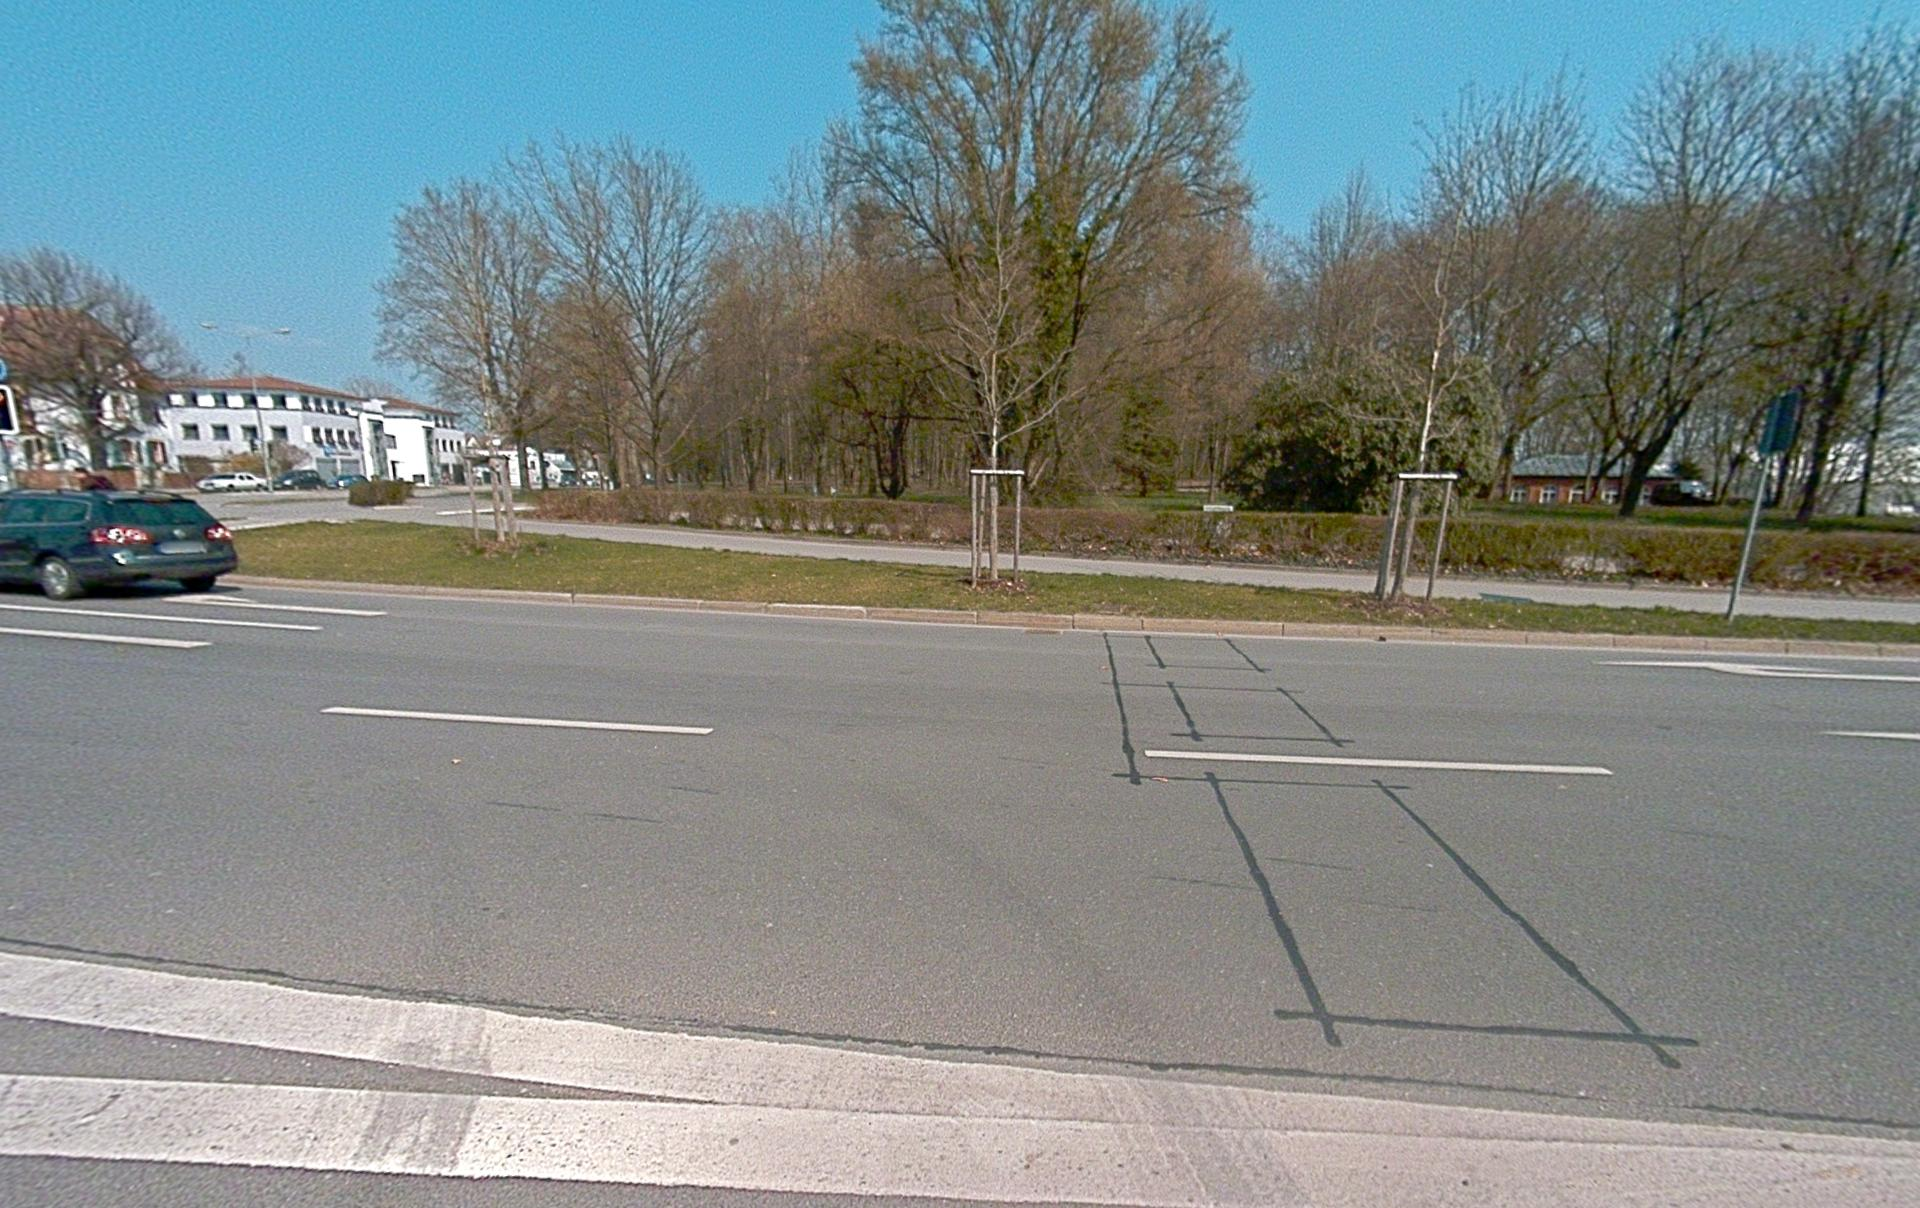car: (0, 487, 238, 600), (196, 472, 270, 493), (275, 469, 328, 490), (331, 473, 369, 488)
traffic sign: (1760, 388, 1802, 454)
